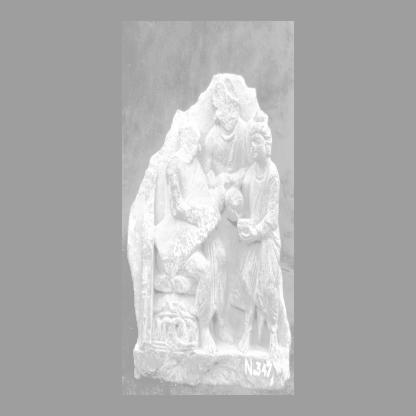buddha-standing: (237, 111, 291, 358)
